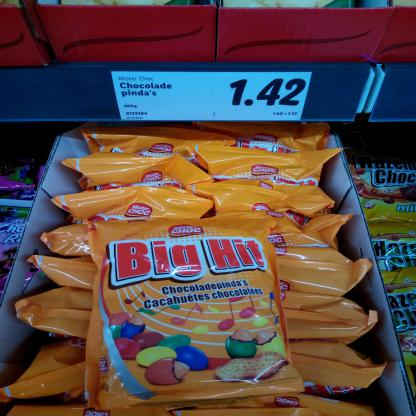prtg: (112, 73, 313, 121)
